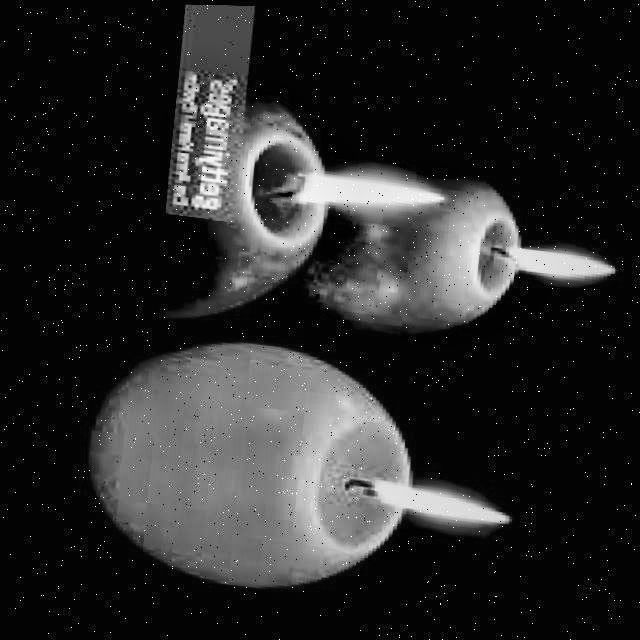Fire: (331, 452, 516, 536), (267, 152, 455, 231), (475, 223, 638, 297)
